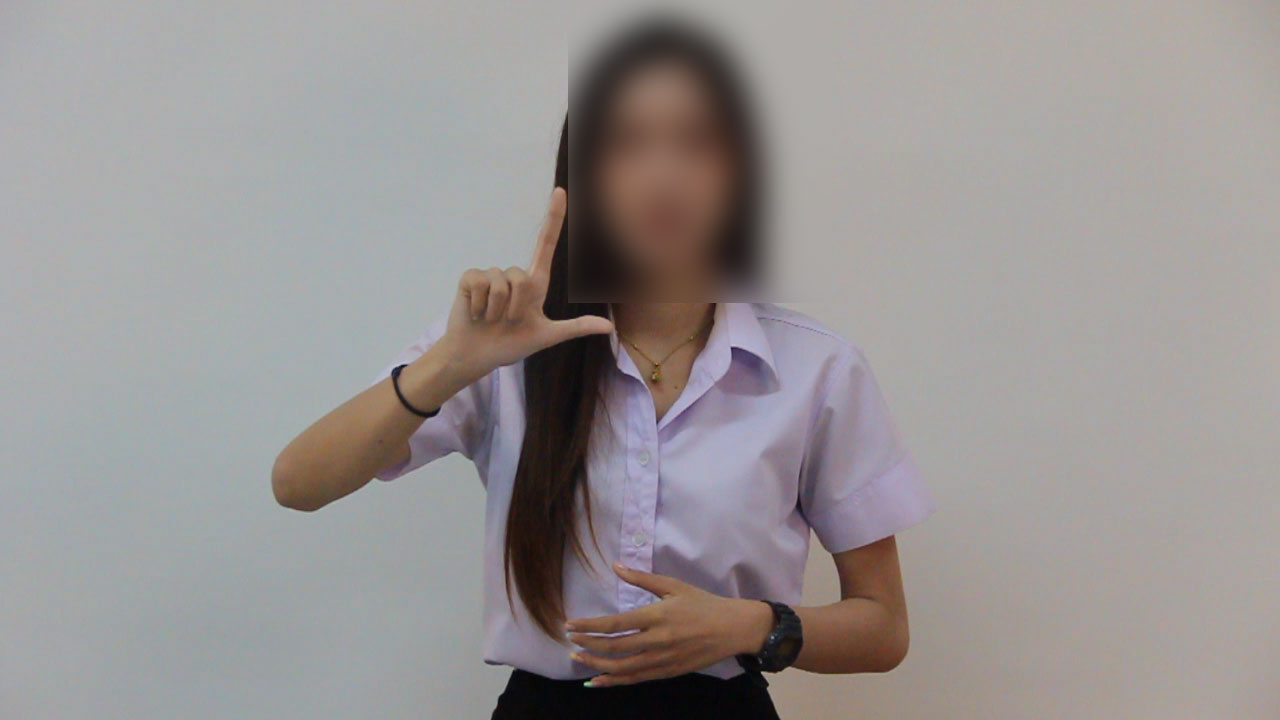lor: (412, 183, 629, 403)
